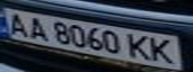0: (103, 28, 124, 56), (66, 23, 87, 48)
6: (84, 26, 106, 52)
8: (48, 19, 72, 46)
A: (24, 15, 51, 42), (3, 10, 30, 37)
K: (145, 35, 181, 65), (124, 32, 154, 62)
